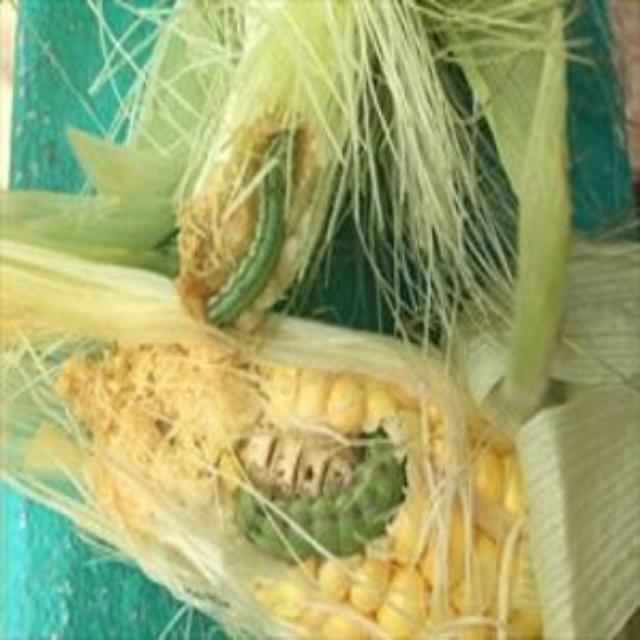Cotton bollworm: (203, 410, 442, 588), (160, 119, 336, 333)
